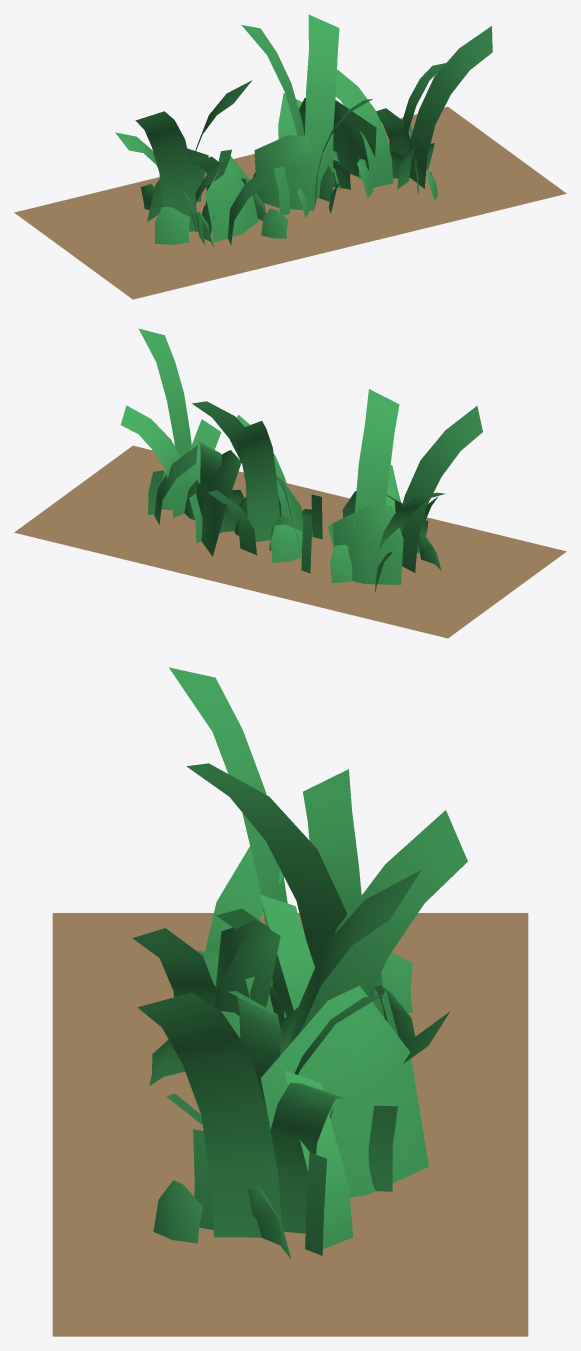
The model's file is Grass and Dirt Test.fbx.
The picture shows the model from 3 angles, top to bottom: view 1: azimuth 30°, elevation 25°; view 2: azimuth 150°, elevation 25°; view 3: azimuth 270°, elevation 25°; orthographic projection. The views are drawn at different scales.
Visible parts, largest first — view 1: pPlane41, polySurface8, polySurface10, polySurface11, polySurface13, polySurface16, polySurface24, polySurface14, polySurface9, polySurface41, polySurface23, polySurface25 (+11 smaller); view 2: pPlane41, polySurface15, polySurface11, polySurface9, polySurface12, polySurface10, polySurface23, polySurface14, polySurface45, polySurface29, polySurface30, polySurface31 (+10 smaller); view 3: pPlane41, polySurface14, polySurface10, polySurface9, polySurface12, polySurface11, polySurface23, polySurface22, polySurface16, polySurface8, polySurface30, polySurface27 (+13 smaller).
Boxes of the visible parts, left/top/right/bottom form: pPlane41: left=14, top=106, right=566, bottom=299; polySurface8: left=304, top=14, right=339, bottom=198; polySurface10: left=409, top=26, right=492, bottom=188; polySurface11: left=135, top=111, right=198, bottom=231; polySurface13: left=254, top=135, right=317, bottom=210; polySurface16: left=205, top=156, right=258, bottom=242; polySurface24: left=335, top=69, right=393, bottom=187; polySurface14: left=299, top=98, right=376, bottom=176; polySurface9: left=241, top=25, right=304, bottom=136; polySurface41: left=155, top=207, right=189, bottom=244; polySurface23: left=398, top=63, right=445, bottom=157; polySurface25: left=227, top=166, right=269, bottom=245; pPlane41: left=14, top=445, right=566, bottom=638; polySurface15: left=332, top=505, right=403, bottom=584; polySurface11: left=401, top=406, right=482, bottom=572; polySurface9: left=231, top=421, right=279, bottom=541; polySurface12: left=353, top=389, right=399, bottom=529; polySurface10: left=138, top=328, right=191, bottom=475; polySurface23: left=120, top=405, right=189, bottom=518; polySurface14: left=201, top=450, right=241, bottom=556; polySurface45: left=270, top=524, right=302, bottom=562; polySurface29: left=208, top=490, right=256, bottom=555; polySurface30: left=154, top=445, right=197, bottom=524; polySurface31: left=187, top=419, right=221, bottom=487; pPlane41: left=52, top=913, right=528, bottom=1336; polySurface14: left=260, top=985, right=428, bottom=1197; polySurface10: left=138, top=992, right=281, bottom=1237; polySurface9: left=300, top=810, right=467, bottom=1031; polySurface12: left=186, top=763, right=347, bottom=967; polySurface11: left=169, top=667, right=287, bottom=986; polySurface23: left=270, top=1082, right=345, bottom=1233; polySurface22: left=303, top=769, right=361, bottom=910; polySurface16: left=214, top=920, right=280, bottom=1015; polySurface8: left=289, top=870, right=421, bottom=1044; polySurface30: left=284, top=1070, right=352, bottom=1248; polySurface27: left=260, top=894, right=314, bottom=1010.
Size of the model in its own units: 3.06 by 1.05 by 1.45.
